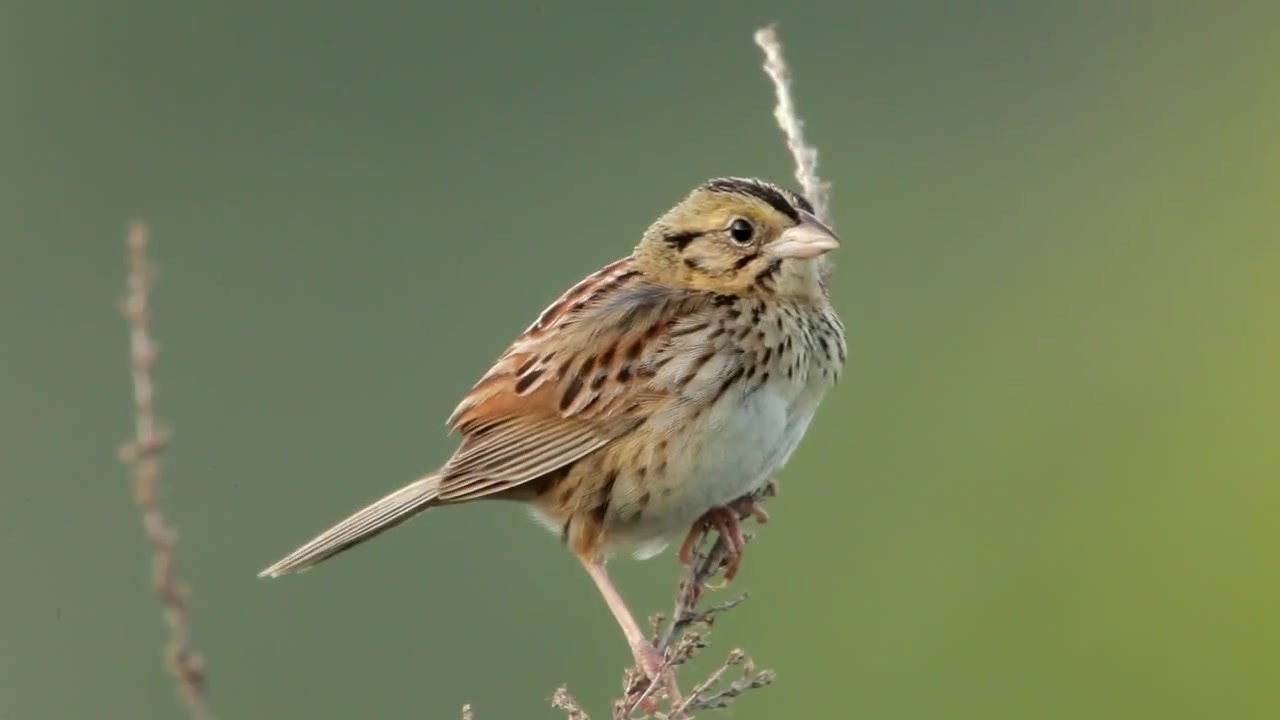bird: (259, 175, 849, 699)
